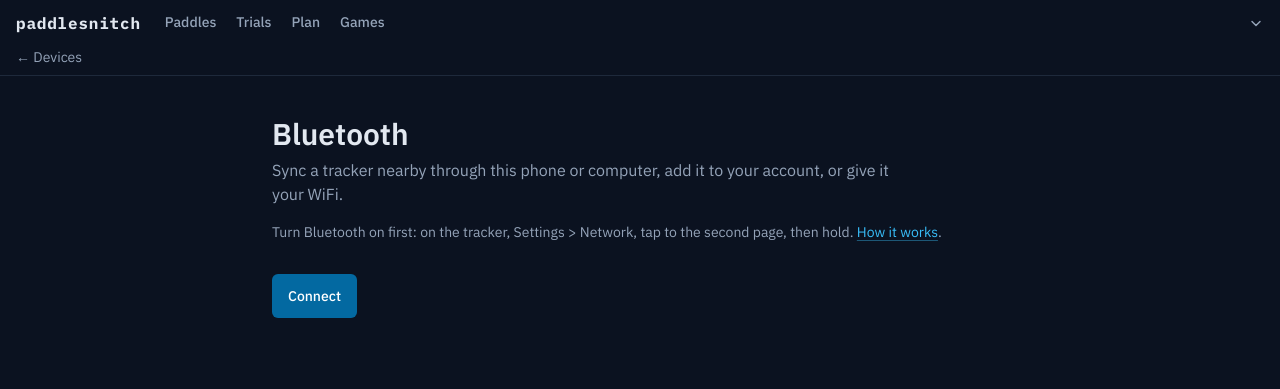
it: Bluetooth test page › says plainly when what it found is not a tracker it understands
Click the button "Connect" at (314, 296), box left=272, top=274, right=357, bottom=318
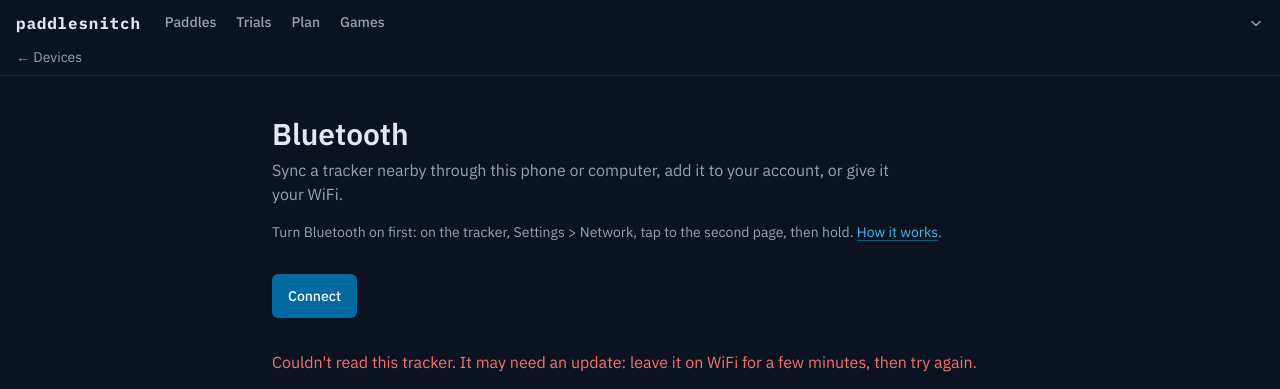
Expected: the text "Couldn't read this tracker" is shown, left=272, top=352, right=977, bottom=372
